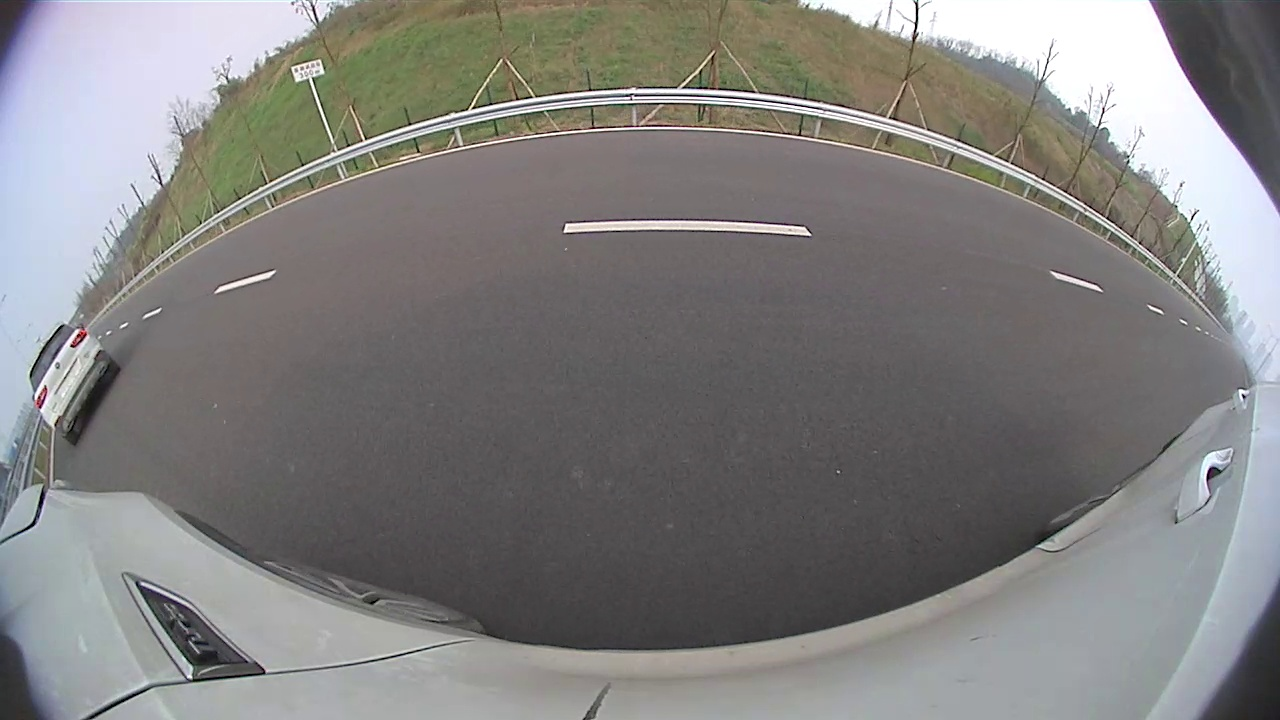car: (29, 323, 120, 445)
